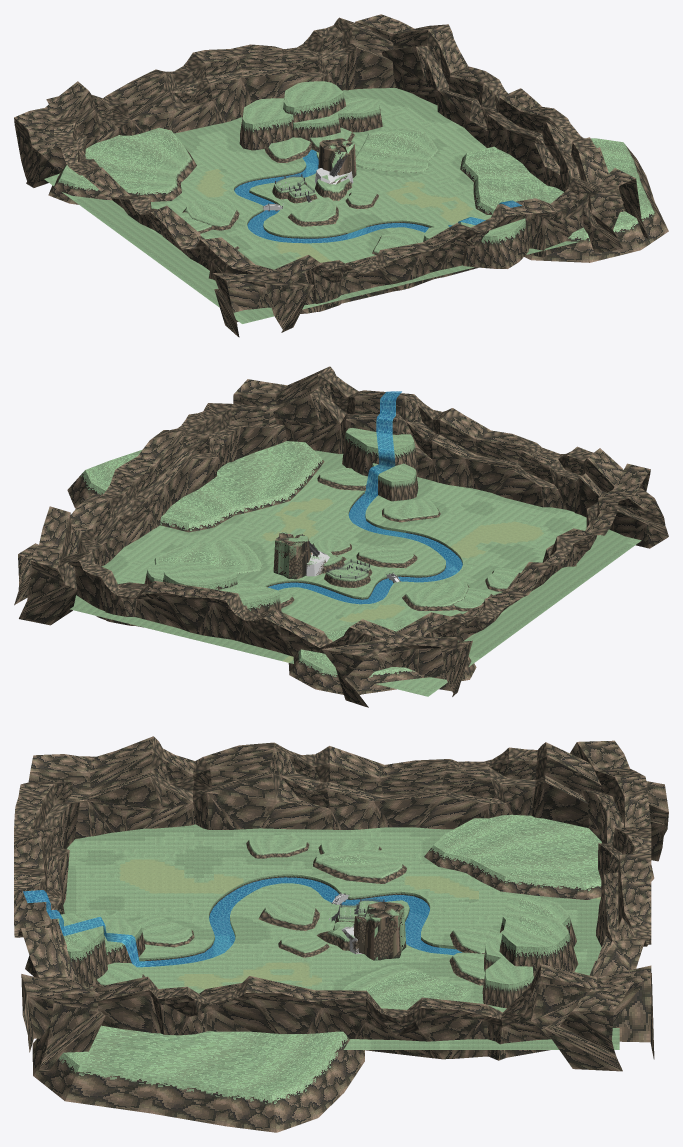
File: Level2.glb
3 views of the same model, one above another, from view 1: azimuth 30°, elevation 25°; view 2: azimuth 150°, elevation 25°; view 3: azimuth 270°, elevation 25° (orthographic). The views are drawn at different scales.
Parts seen in each view (by area): view 1: Plane.016, Cube.005, Cube.006, Cube.007, Plane.027, Cube.004, Plane.026, Plane.015, BézierCurve, Plane.019, Plane.022, Plane.025 (+10 smaller); view 2: Plane.016, Cube.007, Cube.006, Cube.005, Cube.004, Plane.027, BézierCurve, Plane.026, Plane.019, Plane.015, Plane.025, Plane.018 (+10 smaller); view 3: Plane.016, Cube.004, Cube.006, Plane.027, Cube.005, Cube.007, Plane.026, BézierCurve, Plane.025, Plane.015, Plane.019, Plane.006 (+14 smaller).
Part boxes in pixels (<box>): Plane.016: <box>44,88,578,323</box>; Cube.005: <box>14,17,395,187</box>; Cube.006: <box>355,14,623,253</box>; Cube.007: <box>212,168,648,337</box>; Plane.027: <box>460,138,668,262</box>; Cube.004: <box>46,96,313,332</box>; Plane.026: <box>48,127,196,204</box>; Plane.015: <box>355,127,438,172</box>; BézierCurve: <box>234,149,521,243</box>; Plane.019: <box>460,215,528,268</box>; Plane.022: <box>239,98,293,150</box>; Plane.025: <box>283,81,345,122</box>; Plane.016: <box>70,450,641,696</box>; Cube.007: <box>233,366,668,548</box>; Cube.006: <box>19,403,286,625</box>; Cube.005: <box>14,543,472,696</box>; Cube.004: <box>322,463,650,707</box>; Plane.027: <box>67,441,324,532</box>; BézierCurve: <box>268,391,462,604</box>; Plane.026: <box>288,614,476,694</box>; Plane.019: <box>342,428,418,476</box>; Plane.015: <box>154,539,262,573</box>; Plane.025: <box>163,562,237,589</box>; Plane.018: <box>371,463,418,501</box>; Plane.016: <box>63,824,619,1049</box>; Cube.004: <box>28,736,668,861</box>; Cube.006: <box>21,964,654,1060</box>; Plane.027: <box>32,989,364,1132</box>; Cube.005: <box>544,740,651,1071</box>; Cube.007: <box>14,756,105,1072</box>; Plane.026: <box>424,814,654,899</box>; BézierCurve: <box>23,877,462,967</box>; Plane.025: <box>499,910,578,976</box>; Plane.015: <box>342,964,474,1009</box>; Plane.019: <box>25,913,107,988</box>; Plane.006: <box>313,848,406,883</box>.
Size of what is drawn, in the model's own units: 485 by 80.17 by 435.
10 materials, 10 textured.
